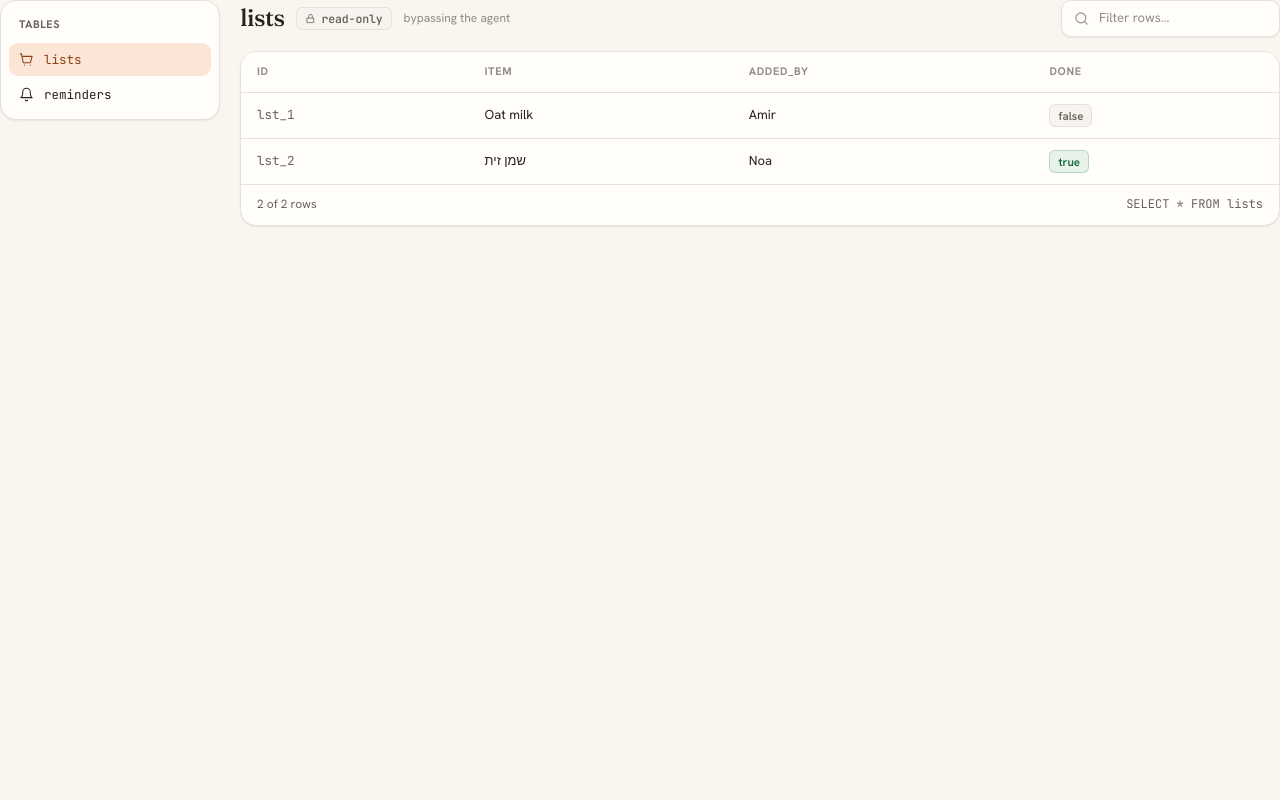
Scenario: DatabaseScreen (live data) › renders rows from the api client and opens the row drawer
Expected: the text "read-only" is shown, [296, 7, 392, 30]
Expected: the text "שמן זית" is shown, [485, 152, 526, 171]
Click the text "Oat milk" at (509, 115), box [485, 106, 533, 125]
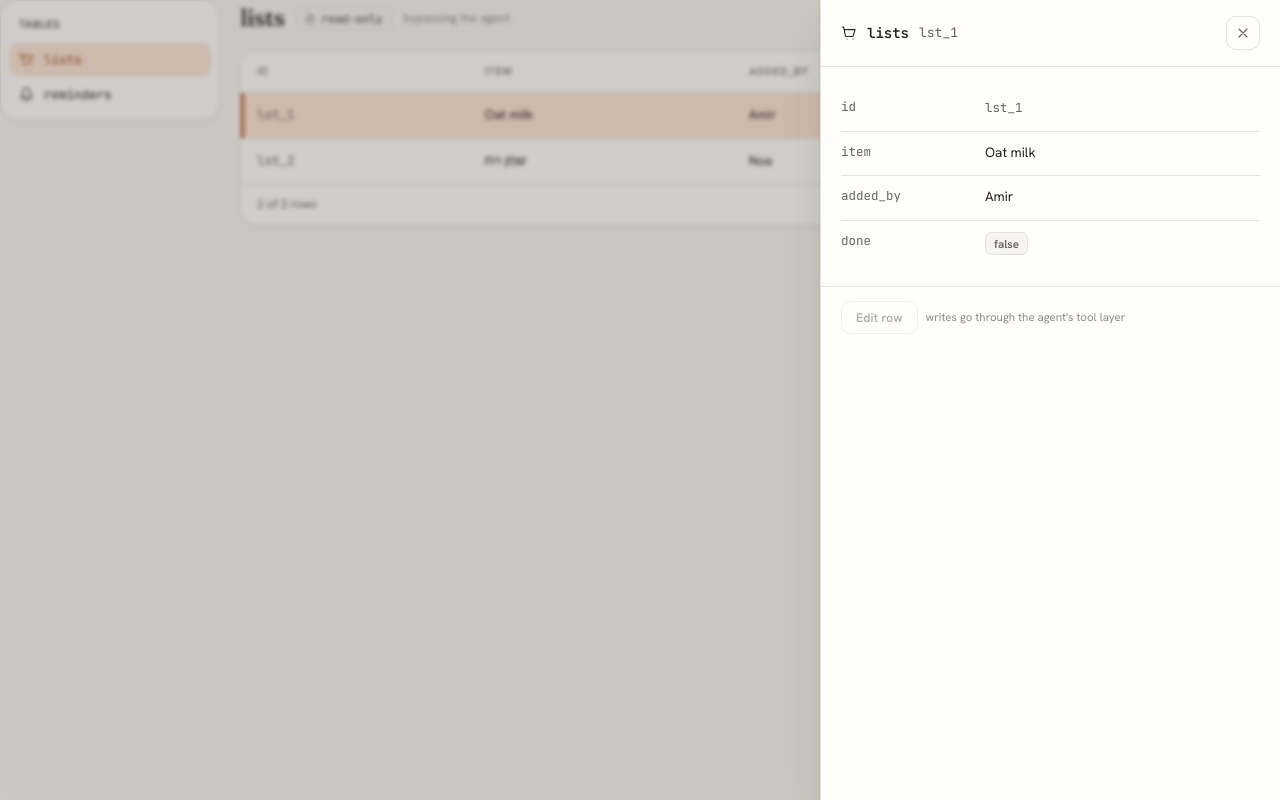
Expected: the button "Edit row" is disabled, [841, 301, 918, 334]
